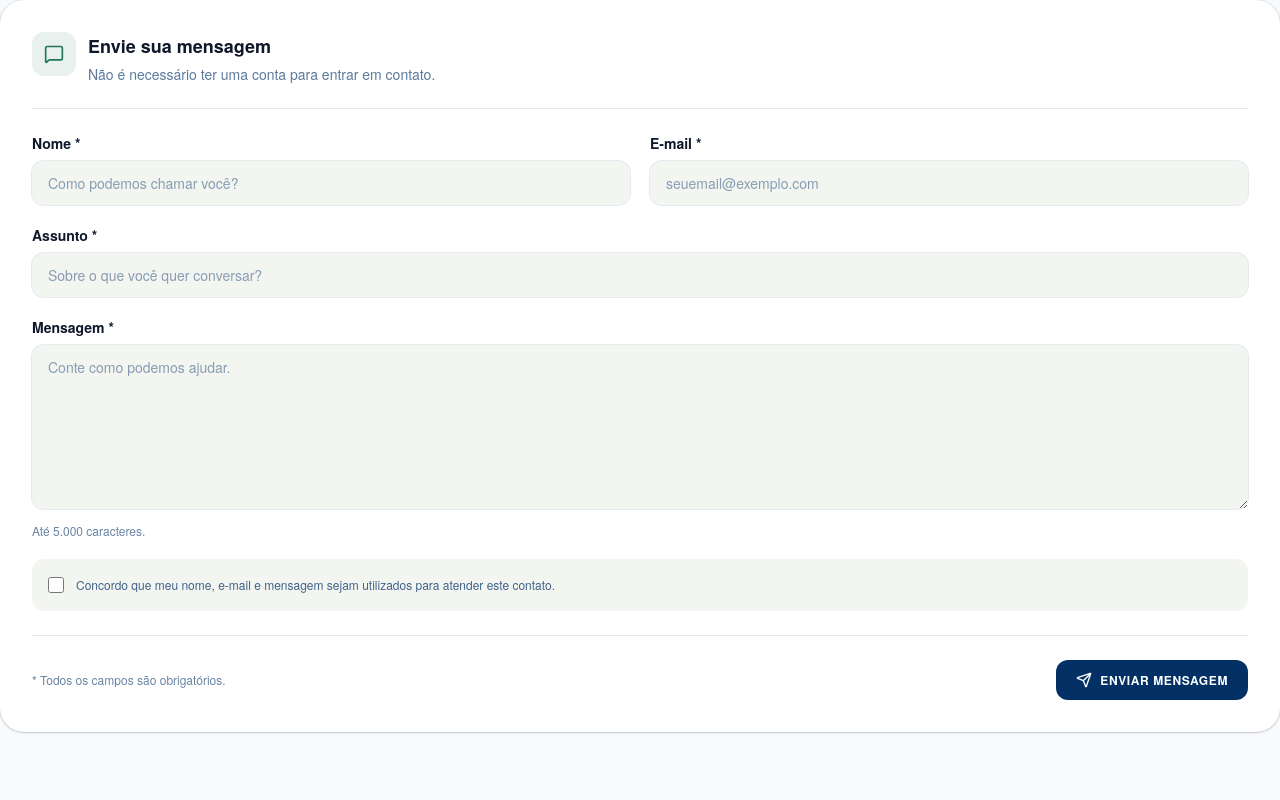
Test case: preserva os dados quando a rede falha e permite uma nova tentativa manual
Type " Maria Silva " into the field labelled "Nome *" at (331, 183), box [32,161,630,205]
Type " Maria@Example.com " into the field labelled "E-mail *" at (949, 183), box [650,161,1248,205]
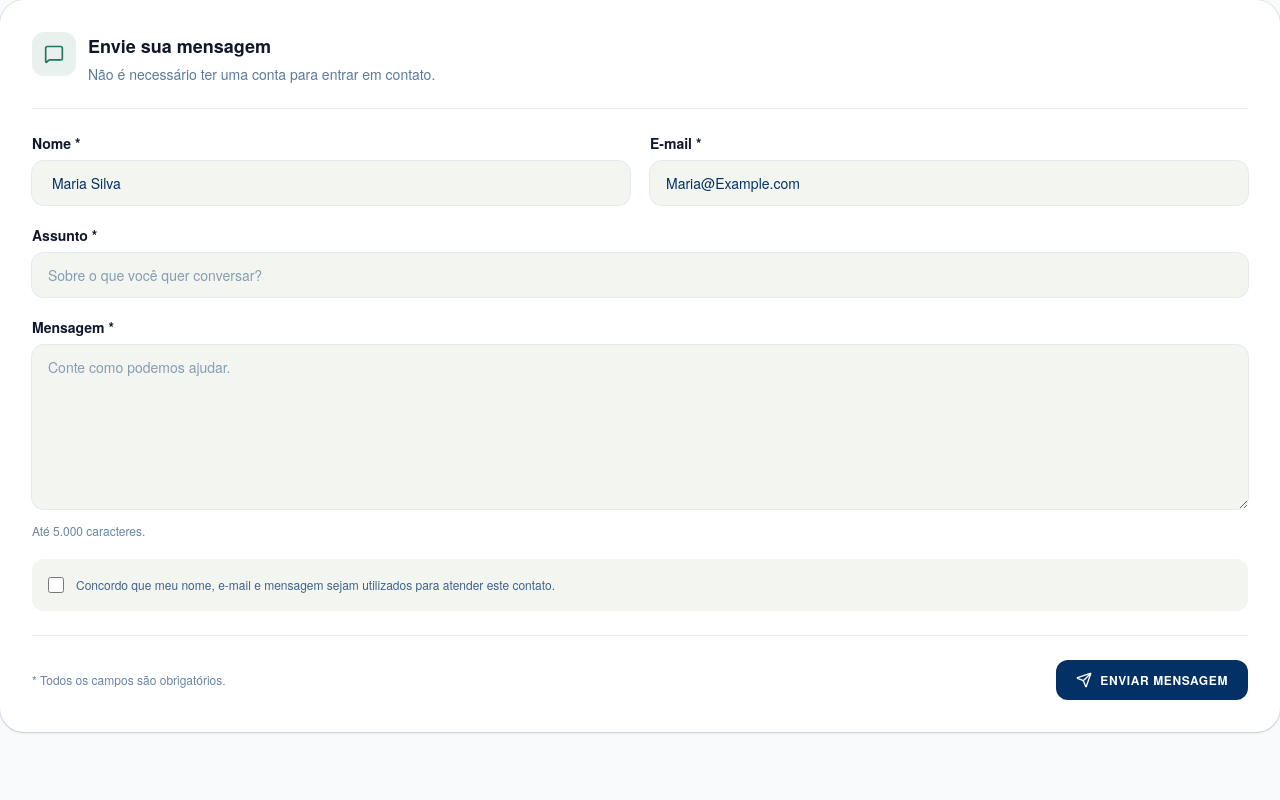
Type " Visita ao Parque " into the field labelled "Assunto *" at (640, 275), box [32,253,1248,297]
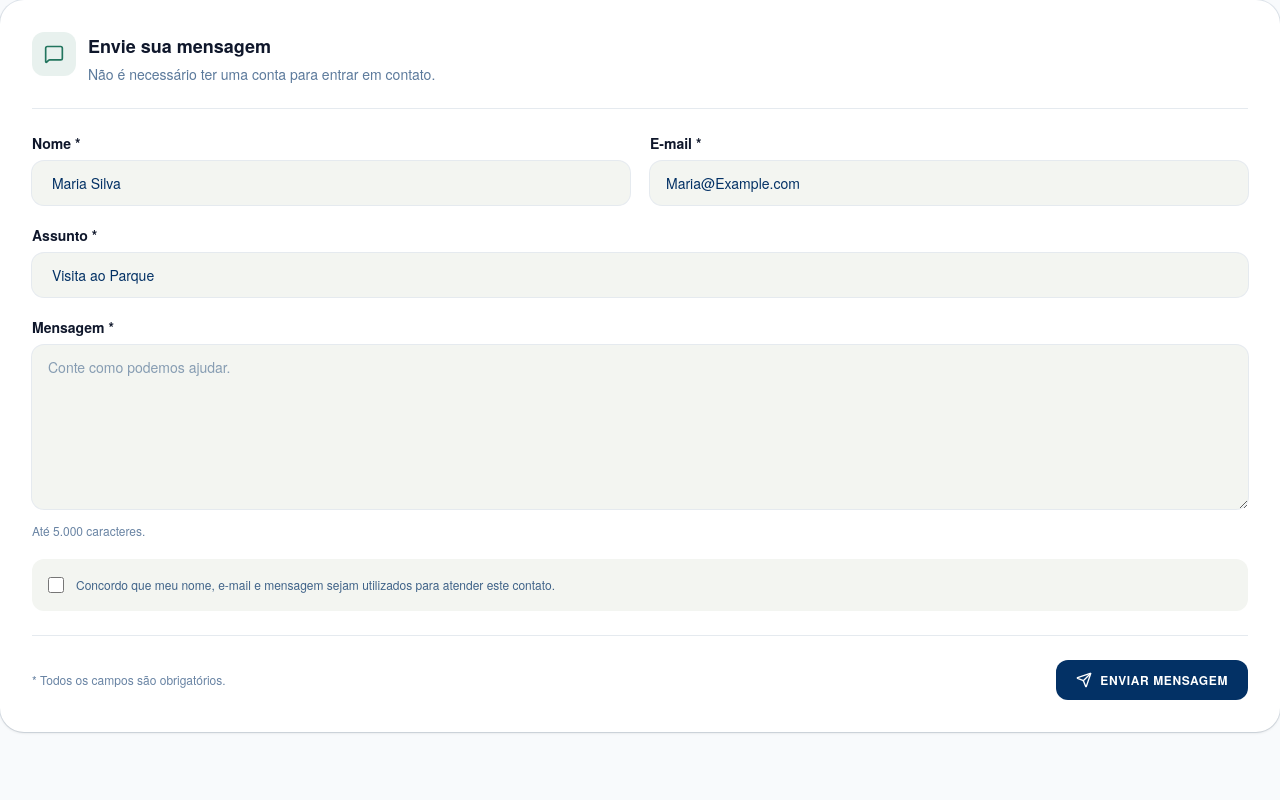
Type " Gostaria de conhecer os espaços. " into the text box labelled "Mensagem *" at (640, 427), box [32,345,1248,509]
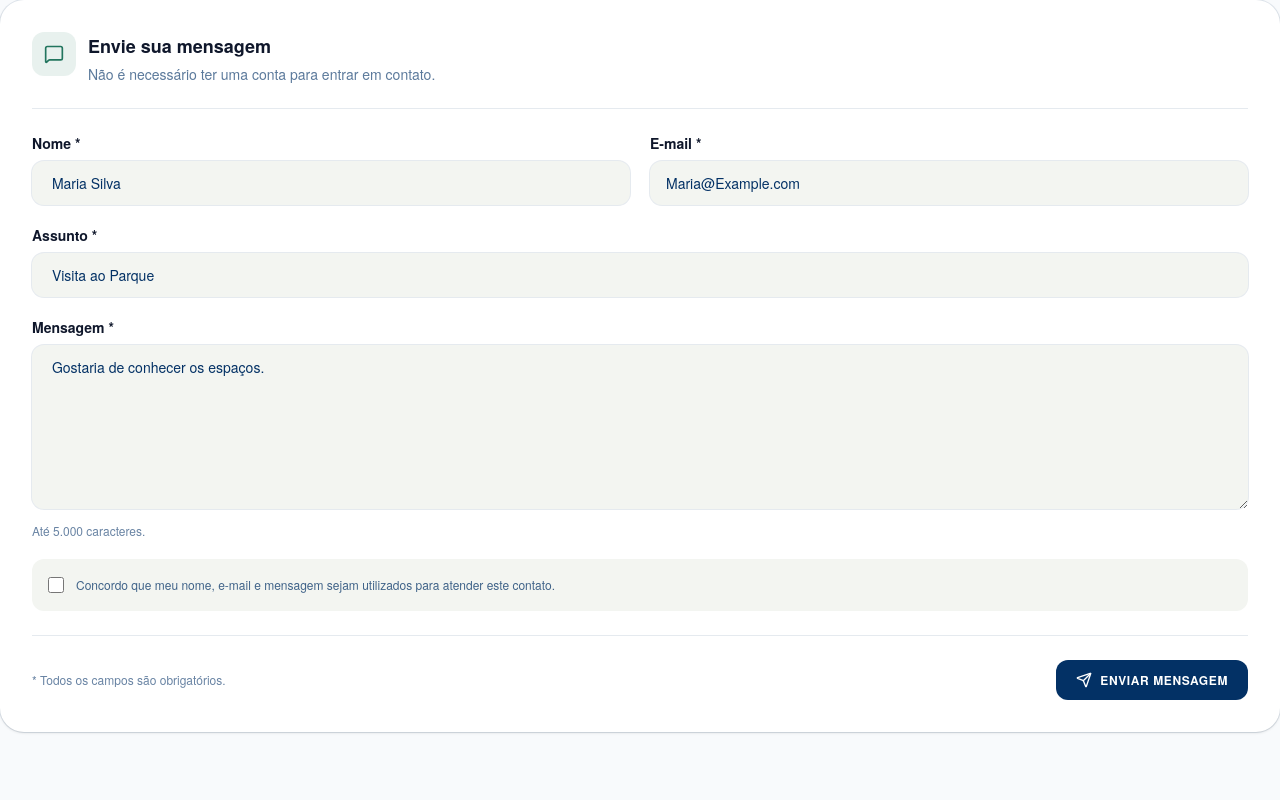
Click the checkbox at (56, 585), box [48,577,64,593]
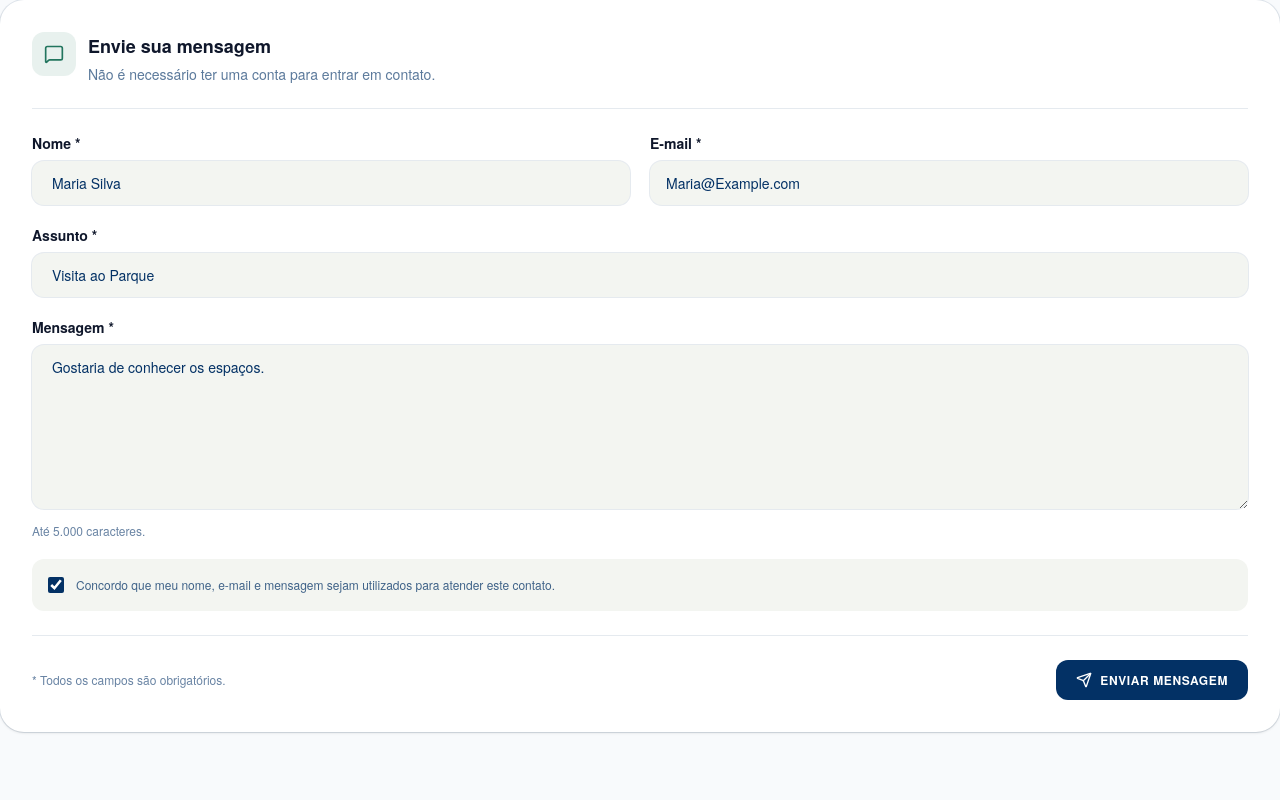
Click the button "Enviar mensagem" at (1152, 680), box [1056,660,1248,700]
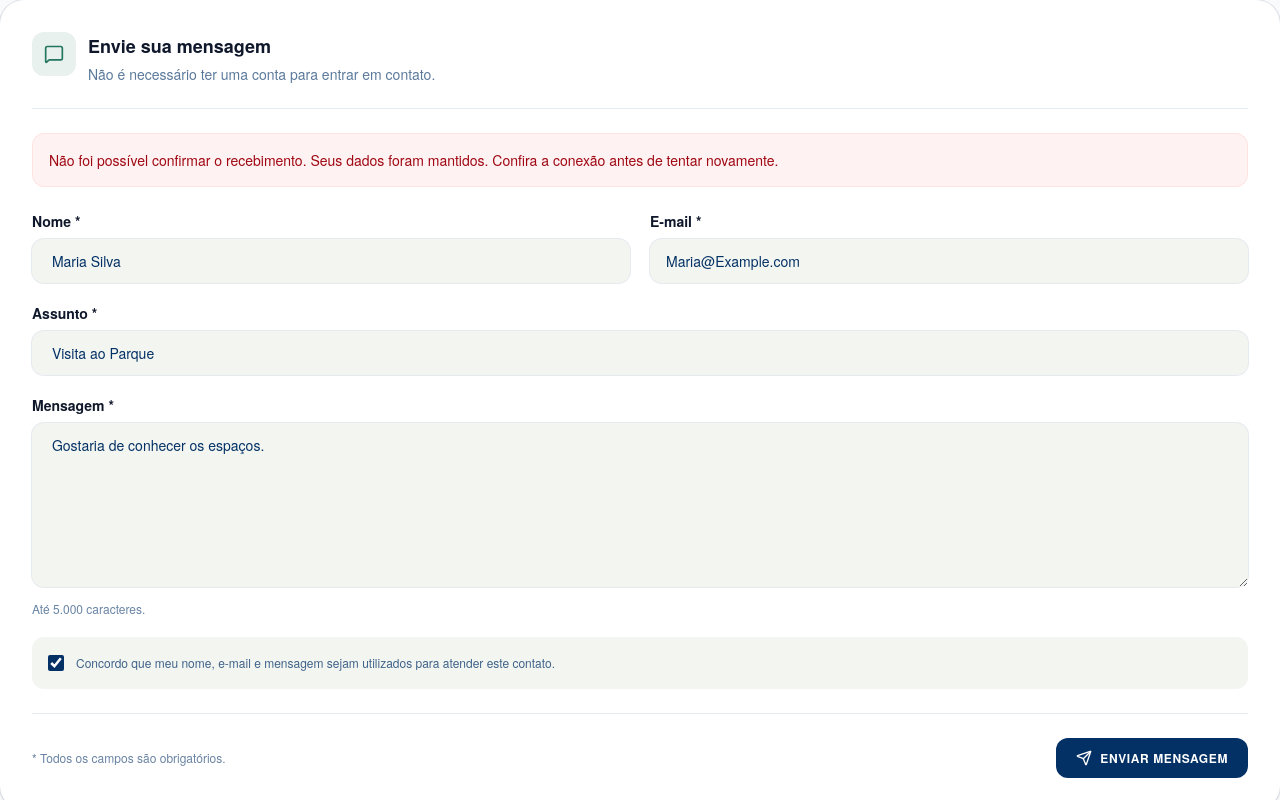
Now the message shows "Seus dados foram mantidos", box [49,150,778,170]
Click the button "Enviar mensagem" at (1152, 758), box [1056,738,1248,778]
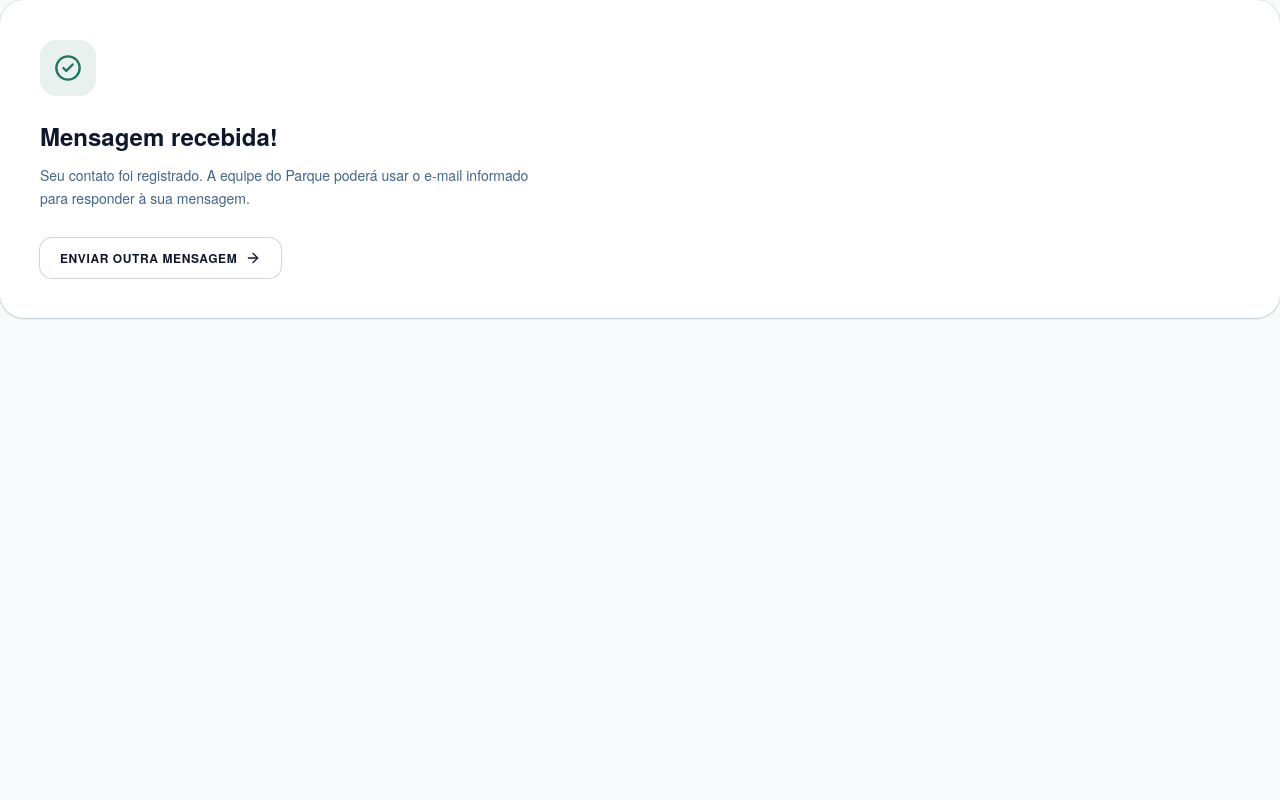
Now the message shows "Mensagem recebida!", box [40,119,278,153]
